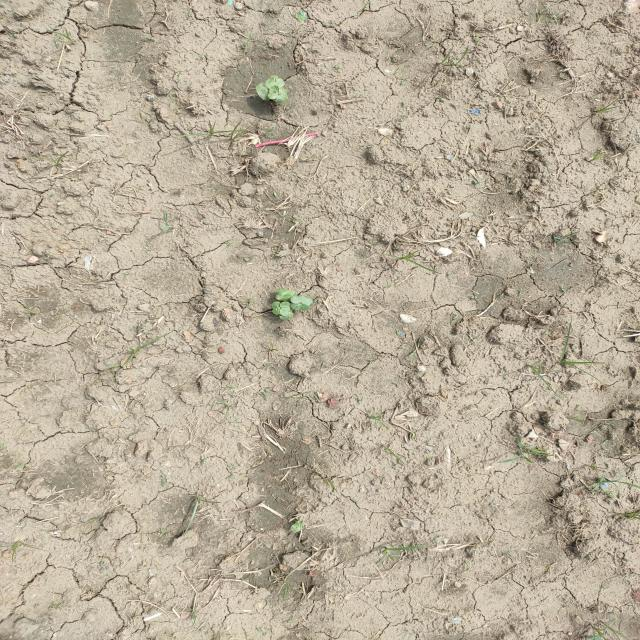seedling: (265, 75, 285, 89), (275, 289, 295, 302), (255, 83, 269, 101), (290, 295, 313, 305), (276, 88, 288, 103), (268, 85, 279, 99), (291, 521, 304, 532), (280, 302, 290, 316), (291, 303, 310, 310), (280, 310, 293, 320), (272, 302, 281, 314)
